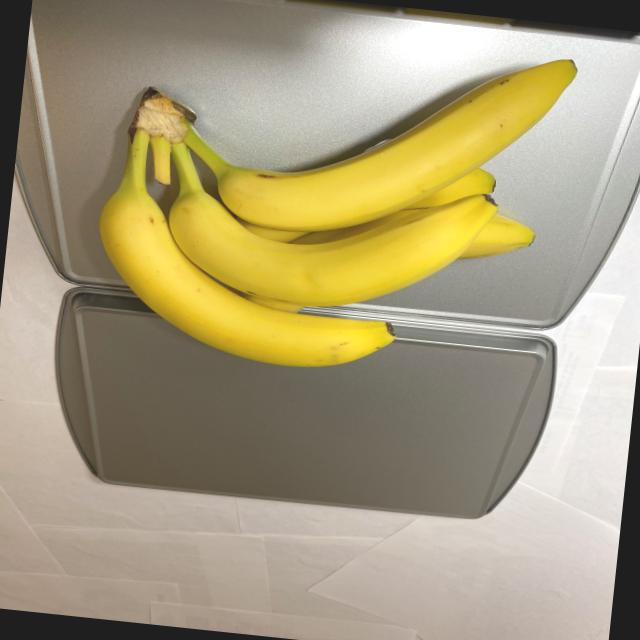banana: (82, 1, 585, 398)
